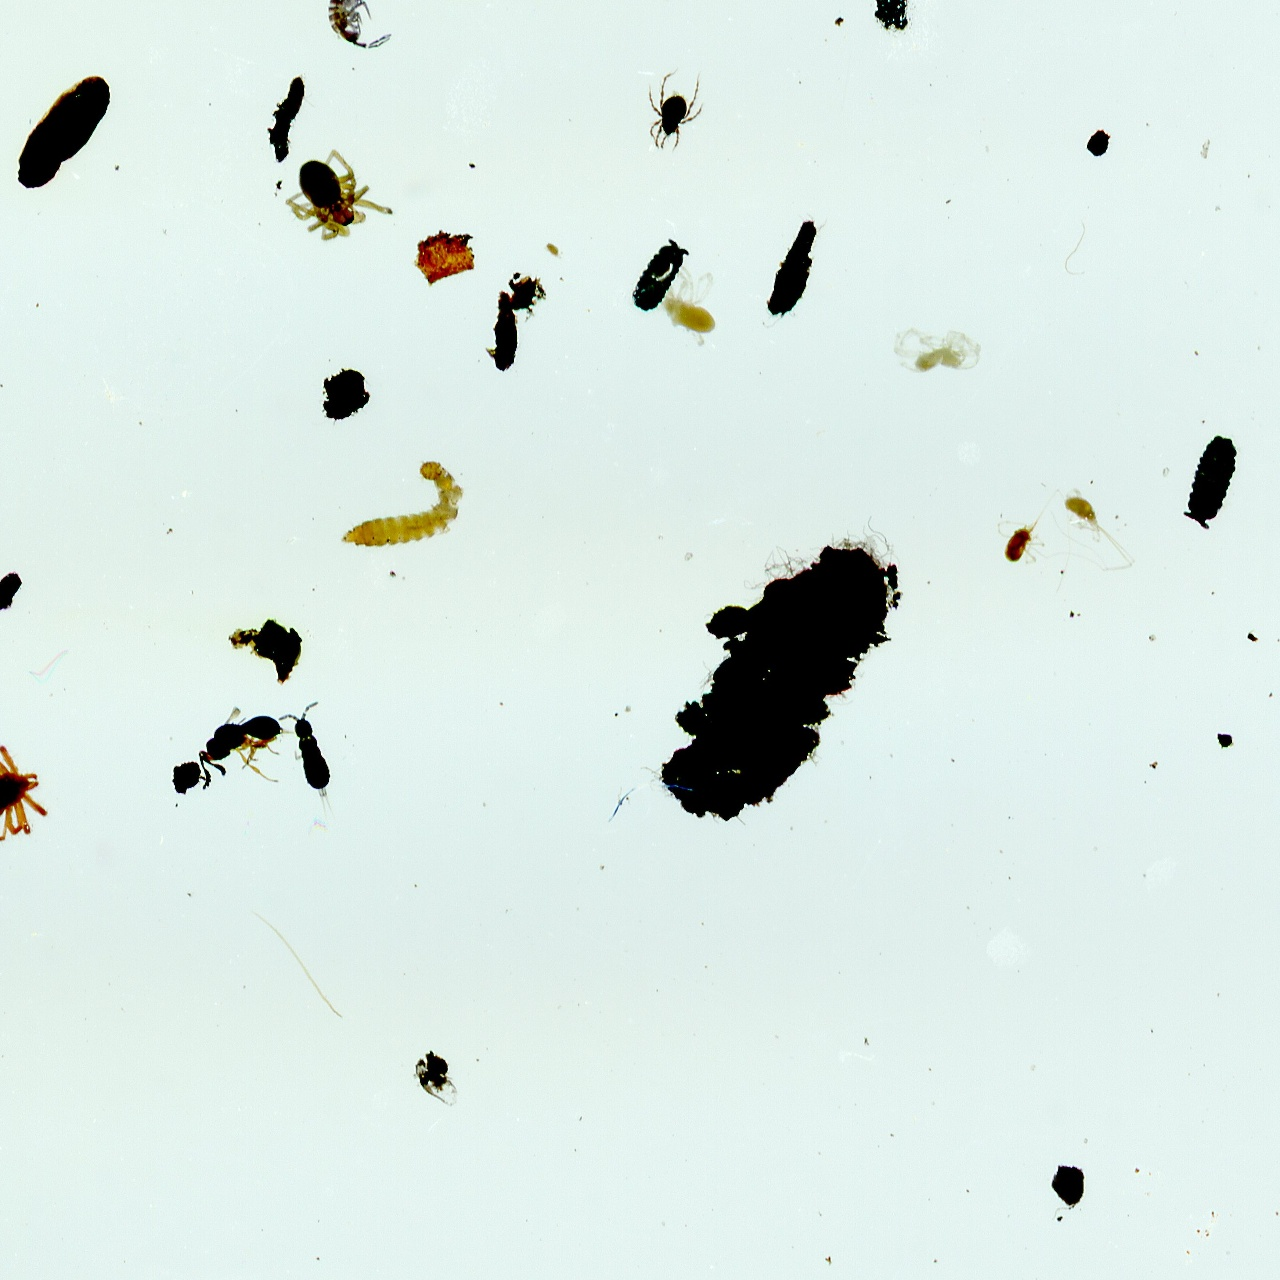arthropod: (173, 686, 314, 816), (271, 136, 395, 260), (1022, 483, 1138, 594), (274, 696, 360, 836), (339, 459, 464, 551), (0, 730, 66, 855), (1177, 428, 1247, 535), (620, 231, 699, 321), (890, 322, 986, 377), (646, 66, 706, 152), (659, 264, 719, 348), (326, 0, 394, 52), (990, 518, 1050, 565)
